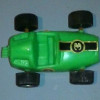carro: (3, 13, 97, 84)
